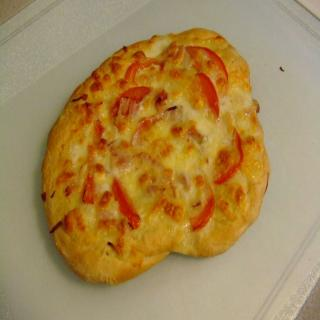Pizza: (40, 24, 282, 290)
